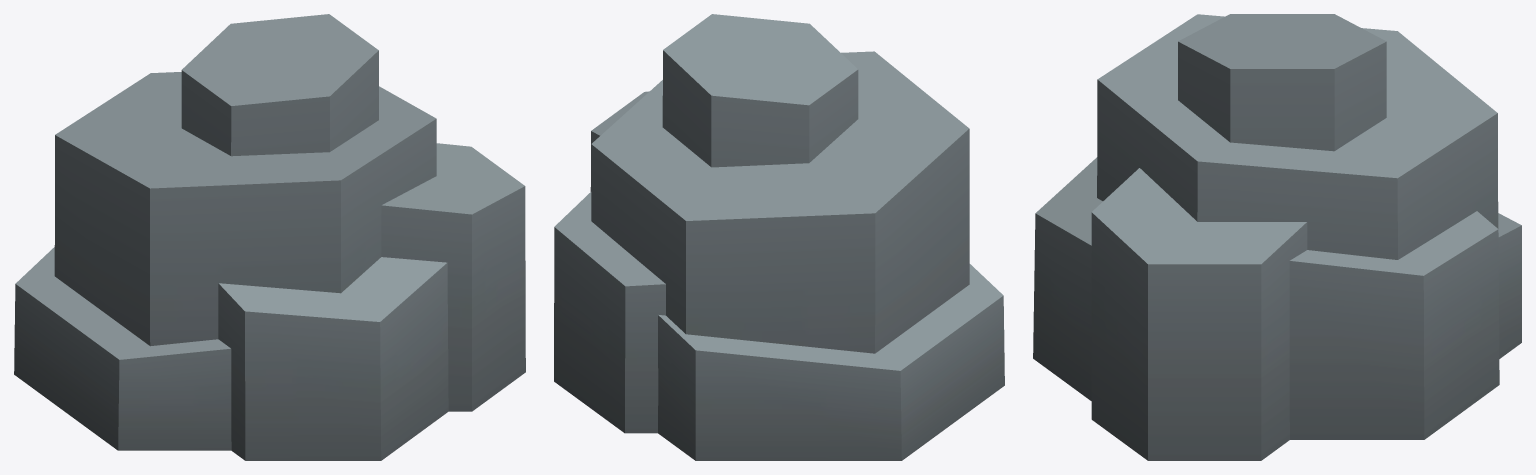
File: kaykit-medieval-hexagon-pack-mountain-a.glb
3 renders of one model, left to right at view 1: azimuth 30°, elevation 25°; view 2: azimuth 150°, elevation 25°; view 3: azimuth 270°, elevation 25°, orthographic. The views are drawn at different scales.
Parts seen in each view (by area): view 1: mountain_A; view 2: mountain_A; view 3: mountain_A.
Part boxes in pixels (x1,y1,x2,y2): mountain_A: (14,14,525,460); mountain_A: (554,14,1004,460); mountain_A: (1033,14,1521,460).
Bounding box in the file's own units: 1.8 × 1.43 × 1.88.
1 material, 1 textured.
